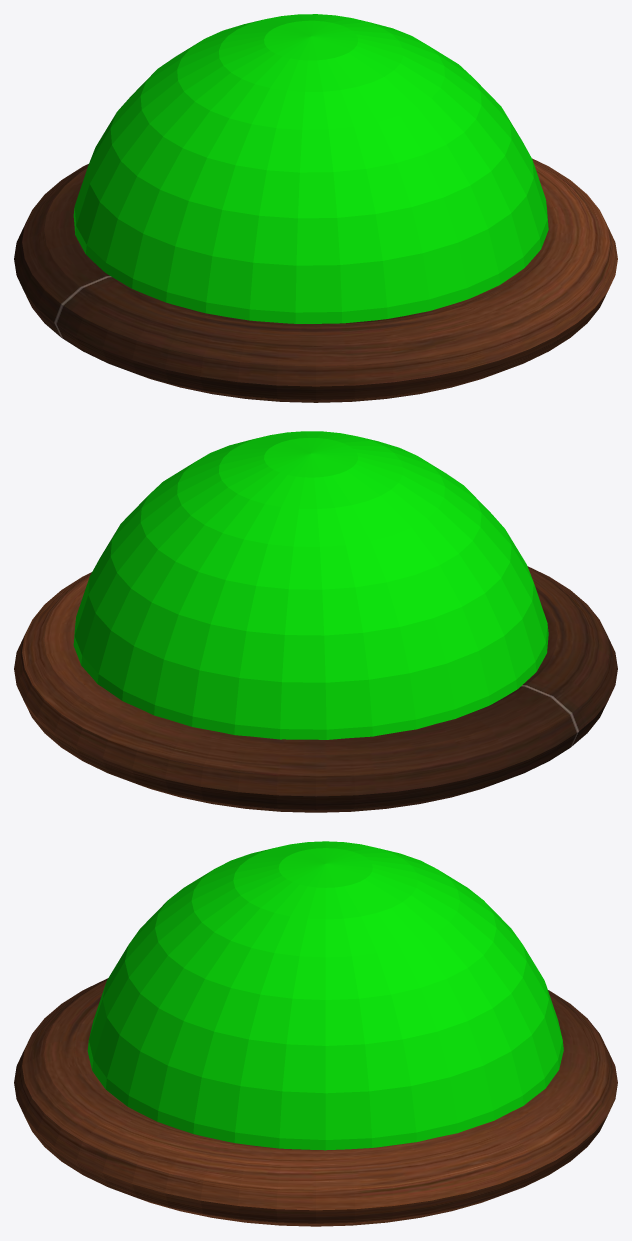
File: boton.fbx
3 views of the same model, one above another, from view 1: azimuth 30°, elevation 25°; view 2: azimuth 150°, elevation 25°; view 3: azimuth 270°, elevation 25° (orthographic).
Parts seen in each view (by area): view 1: Sphere, Torus; view 2: Sphere, Torus; view 3: Sphere, Torus.
Part boxes in pixels (left/top/right/bottom): Sphere: left=73, top=14, right=548, bottom=323; Torus: left=14, top=158, right=617, bottom=402; Sphere: left=73, top=431, right=548, bottom=739; Torus: left=14, top=566, right=617, bottom=812; Sphere: left=87, top=841, right=563, bottom=1150; Torus: left=14, top=978, right=617, bottom=1226.
Size of the model in its own units: 250 by 115 by 250.
